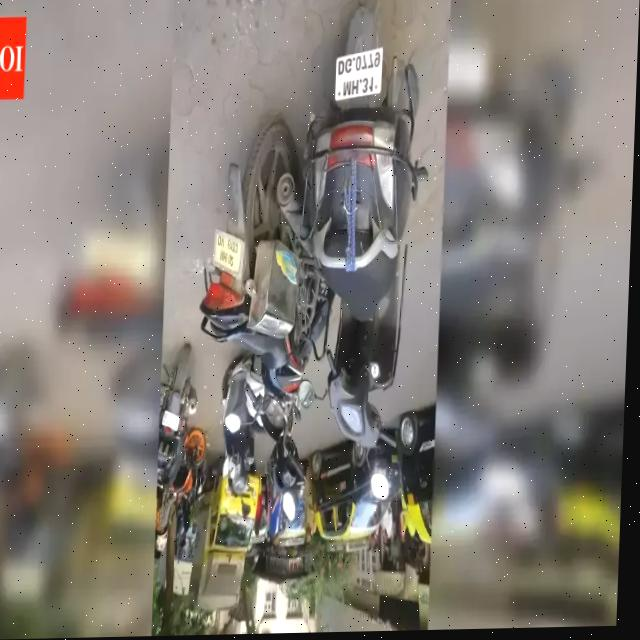plate: (330, 43, 388, 110), (212, 227, 249, 283), (163, 410, 185, 436)
